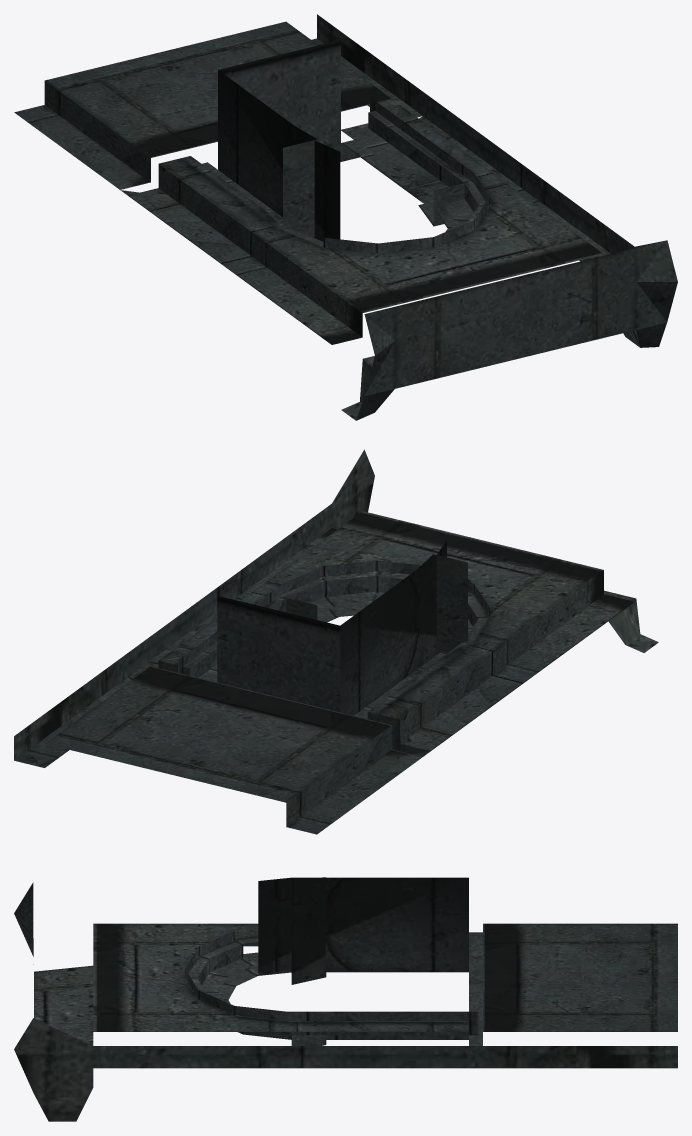
The picture shows the model from 3 angles, top to bottom: view 1: azimuth 30°, elevation 25°; view 2: azimuth 150°, elevation 25°; view 3: azimuth 270°, elevation 25°; orthographic projection. The views are drawn at different scales.
Visible parts, largest first — view 1: model_Object30; view 2: model_Object30; view 3: model_Object30.
Boxes of the visible parts, box(x1,y1,x2,y2) form: model_Object30: box(14, 14, 677, 420); model_Object30: box(14, 449, 658, 834); model_Object30: box(14, 877, 677, 1121).
Size of the model in its own units: 4 by 2.04 by 8.26.
Materials: 2 (2 with a texture image).
